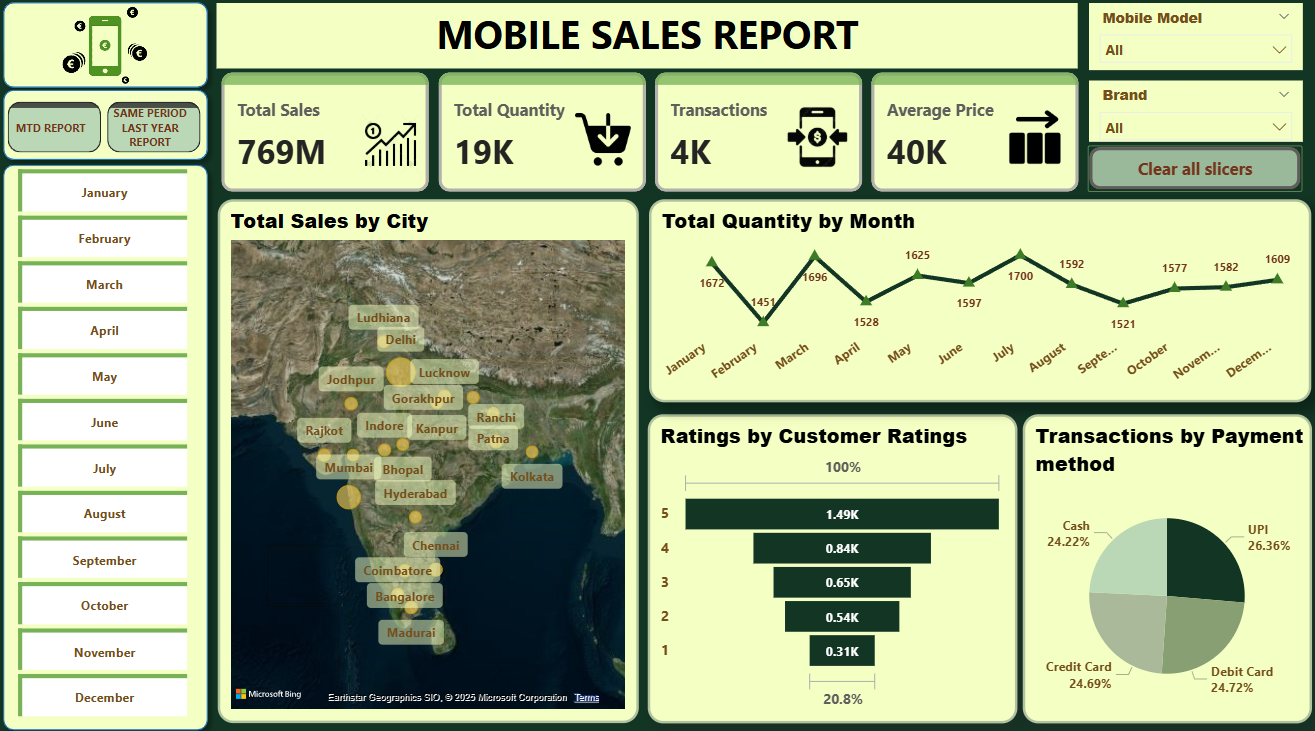

The page's visual inventory and layout, read from the dashboard file:
{"tool":"powerbi","page":{"name":"OVERVIEW","canvas":[1280,720],"ordinal":0},"visuals":[{"type":"shape","box":[0,156.5,215.2,563.7],"z":0},{"type":"shape","box":[0,0,215.2,100.3],"z":1000},{"type":"shape","box":[0,84.4,215.2,85.6],"z":2000},{"type":"image","box":[8.4,8.4,196.6,84.5],"z":3000},{"type":"textbox","box":[215.2,9.8,831.5,63.6],"z":4000},{"type":"slicer","fields":{"Values":["Custom_Calender.Date.Variation.Date Hierarchy.Month"]},"box":[2.4,165.3,202.7,534.5],"z":5000},{"type":"slicer","fields":{"Values":["Mobile Sales.Mobile Model"]},"box":[1056.8,9.7,206.3,65.1],"z":6000},{"type":"slicer","fields":{"Values":["Mobile Sales.Brand"]},"box":[1056.8,84.5,206.3,59.1],"z":8000},{"type":"map","fields":{"Category":["Mobile Sales.City"],"Size":["Measure.Total Sales"]},"box":[216,199.1,406.6,505.5],"z":9000},{"type":"funnel","title":"Ratings by Customer Ratings","fields":{"Category":["Mobile Sales.Customer Ratings"],"Y":["CountNonNull(Mobile Sales.Customer Age)"]},"box":[631,406,357.1,298.4],"z":10000},{"type":"lineChart","fields":{"Category":["Custom_Calender.Date.Variation.Date Hierarchy.Month"],"Y":["Measure.Total Quantity"]},"box":[632.2,199.3,639.5,195.7],"z":11000},{"type":"pieChart","title":"Transactions by Payment method","fields":{"Y":["CountNonNull(Mobile Sales.Transaction ID)"],"Category":["Mobile Sales.Payment Method"]},"box":[992.9,406,278.8,298.4],"z":12000},{"type":"cardVisual","fields":{"Data":["Measure.Total Sales","Measure.Total Quantity","Measure.Transactions","Measure.Average Price"]},"box":[214.7,51.9,840.9,165.3],"z":13000},{"type":"pageNavigator","box":[13.3,105,187,49.5],"z":14000},{"type":"actionButton","box":[1055.6,147.2,207.5,44.6],"z":15000}]}

Visuals, with their boxes in screenshot pixels (x1, y1, x2, y2), scaled from the page's 1280x720 canvas onto the 1315x731 screenshot:
shape: <region>0, 159, 221, 730</region>
shape: <region>0, 0, 221, 102</region>
shape: <region>0, 86, 221, 173</region>
image: <region>9, 9, 211, 94</region>
textbox: <region>221, 10, 1075, 75</region>
slicer - Custom_Calender.Date.Variation.Date Hierarchy.Month: <region>2, 168, 211, 710</region>
slicer - Mobile Sales.Mobile Model: <region>1086, 10, 1298, 76</region>
slicer - Mobile Sales.Brand: <region>1086, 86, 1298, 146</region>
map - Mobile Sales.City x Measure.Total Sales: <region>222, 202, 640, 715</region>
"Ratings by Customer Ratings" funnel: <region>648, 412, 1015, 715</region>
lineChart - Custom_Calender.Date.Variation.Date Hierarchy.Month x Measure.Total Quantity: <region>649, 202, 1306, 401</region>
"Transactions by Payment method" pieChart: <region>1020, 412, 1306, 715</region>
cardVisual - Measure.Total Sales x Measure.Total Quantity: <region>221, 53, 1084, 221</region>
pageNavigator: <region>14, 107, 206, 157</region>
actionButton: <region>1084, 149, 1298, 195</region>
